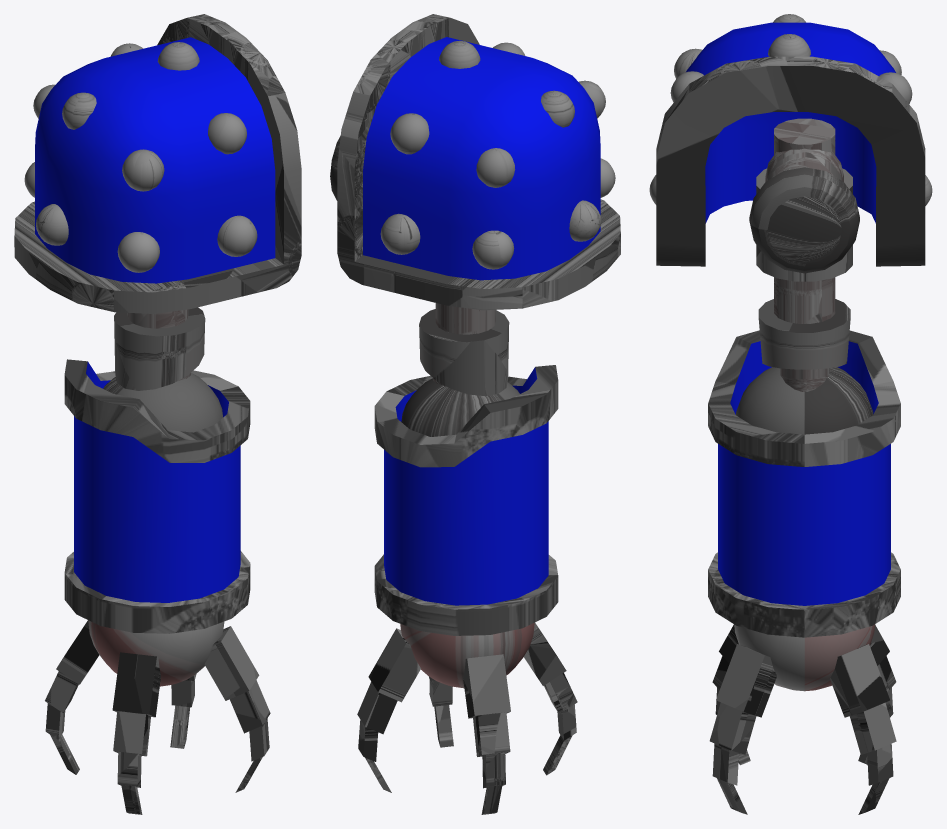
File: GarbageCanArm.fbx
The picture shows the model from 3 angles, left to right: view 1: azimuth 30°, elevation 25°; view 2: azimuth 150°, elevation 25°; view 3: azimuth 270°, elevation 25°; orthographic projection. The views are drawn at different scales.
Visible parts, largest first — view 1: R.Shoulder, R.Wrist, R.Elbow, R.Finger1, R.Palm, R.Finger2, R.Finger4, R.Finger3, R.UpperArm; view 2: R.Shoulder, R.Wrist, R.Elbow, R.Finger4, R.Palm, R.Finger3, R.Finger1, R.UpperArm, R.Finger2; view 3: R.Wrist, R.Shoulder, R.ShoulderJoint, R.UpperArm, R.Finger2, R.Finger3, R.Elbow, R.Palm, R.Finger4, R.Finger1.
Part boxes in pixels (left/top/right/bottom): R.Shoulder: left=14, top=14, right=301, bottom=313; R.Wrist: left=64, top=359, right=250, bottom=633; R.Elbow: left=114, top=307, right=205, bottom=390; R.Finger1: left=112, top=652, right=160, bottom=814; R.Palm: left=88, top=620, right=224, bottom=686; R.Finger2: left=204, top=626, right=270, bottom=792; R.Finger4: left=45, top=620, right=99, bottom=774; R.Finger3: left=170, top=674, right=196, bottom=748; R.UpperArm: left=127, top=309, right=188, bottom=328; R.Shoulder: left=337, top=14, right=620, bottom=310; R.Wrist: left=374, top=365, right=558, bottom=635; R.Elbow: left=419, top=309, right=509, bottom=395; R.Finger4: left=463, top=654, right=510, bottom=814; R.Palm: left=400, top=623, right=534, bottom=688; R.Finger3: left=357, top=628, right=420, bottom=792; R.Finger1: left=524, top=622, right=577, bottom=775; R.UpperArm: left=435, top=303, right=495, bottom=334; R.Finger2: left=429, top=676, right=453, bottom=747; R.Wrist: left=708, top=330, right=900, bottom=637; R.Shoulder: left=649, top=14, right=932, bottom=266; R.ShoulderJoint: left=749, top=148, right=859, bottom=273; R.UpperArm: left=756, top=118, right=852, bottom=323; R.Finger2: left=709, top=644, right=776, bottom=814; R.Finger3: left=830, top=644, right=896, bottom=814; R.Elbow: left=758, top=299, right=850, bottom=391; R.Palm: left=734, top=624, right=875, bottom=691; R.Finger4: left=858, top=625, right=896, bottom=764; R.Finger1: left=712, top=624, right=750, bottom=765.
Bounding box in the file's own units: 470 × 1358 × 458.
